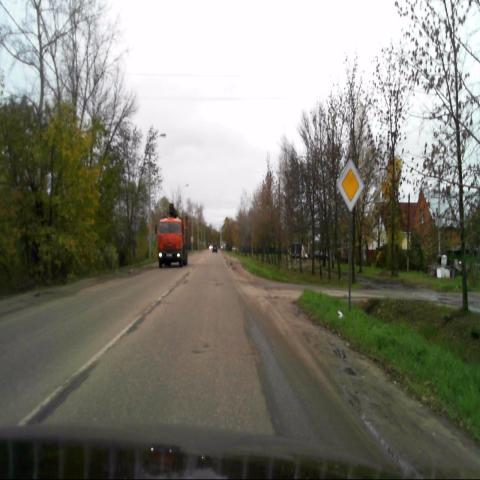2_1: (336, 158, 364, 211)
